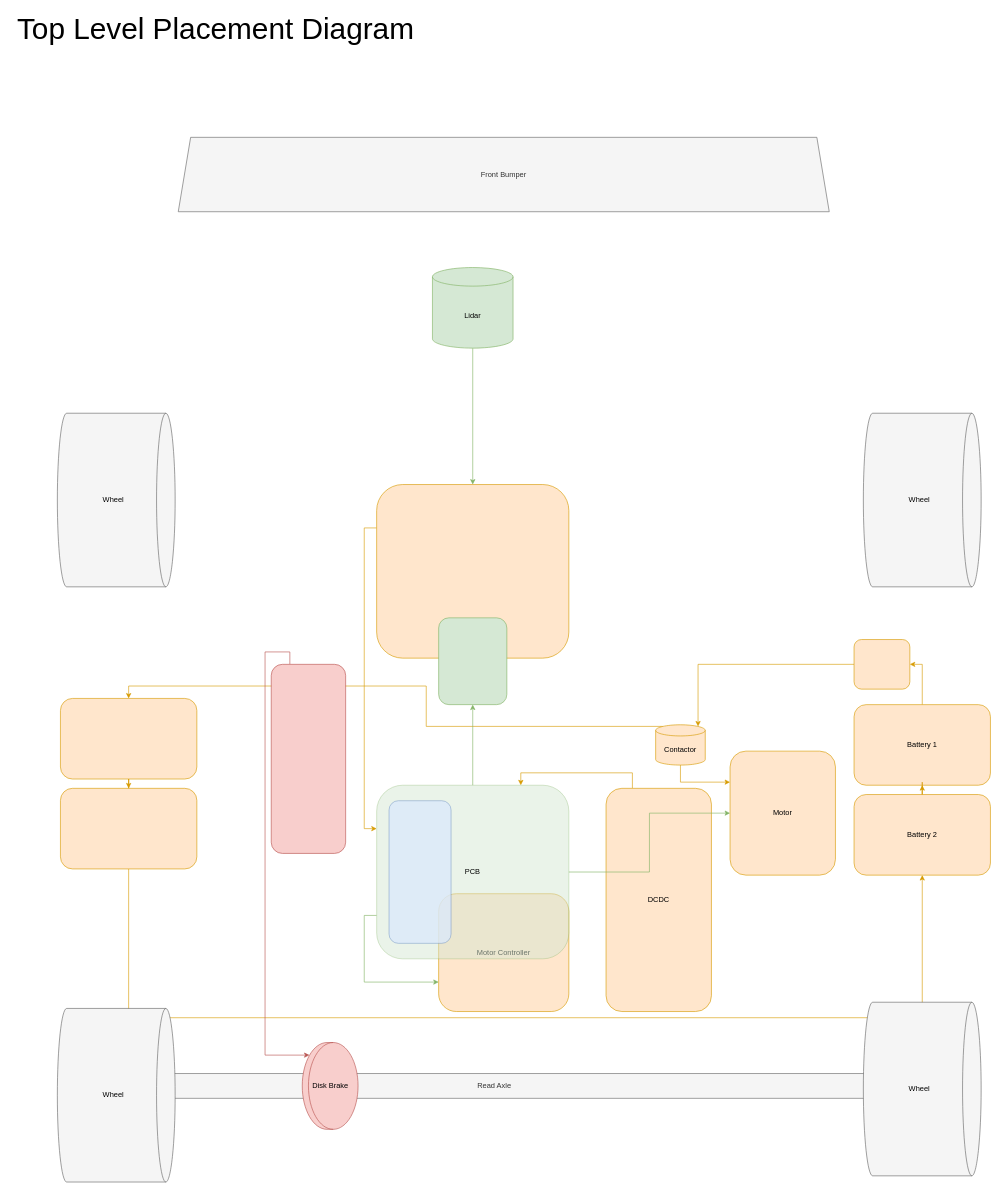
Some shapes in this 1001 by 1193 pixel diagram are drawn without their labels. Here are the shapes that lost their labels. From the top down, the centre of each, then its label:
At point 472,571: "Jetson".
At point 472,661: "Steering Servo".
At point 881,664: "Key Switch".
At point 128,738: "Battery 3".
At point 308,758: "Linear Actuator".
At point 128,828: "Battery 4".
At point 419,871: "Arduino".
